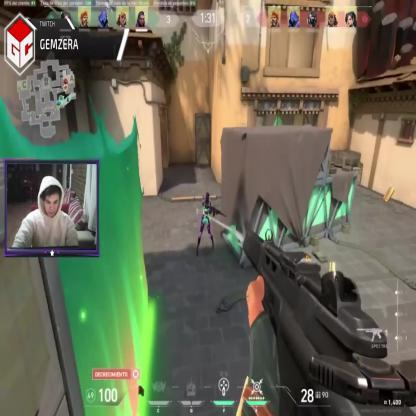enemy: (197, 190, 216, 256)
enemy_head: (206, 192, 210, 202)
